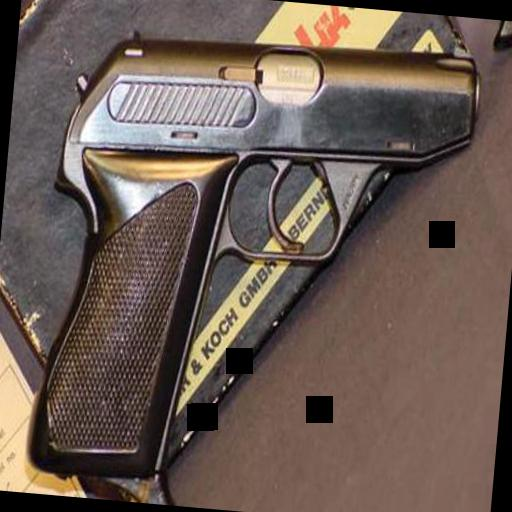Handgun: (22, 18, 482, 502)
